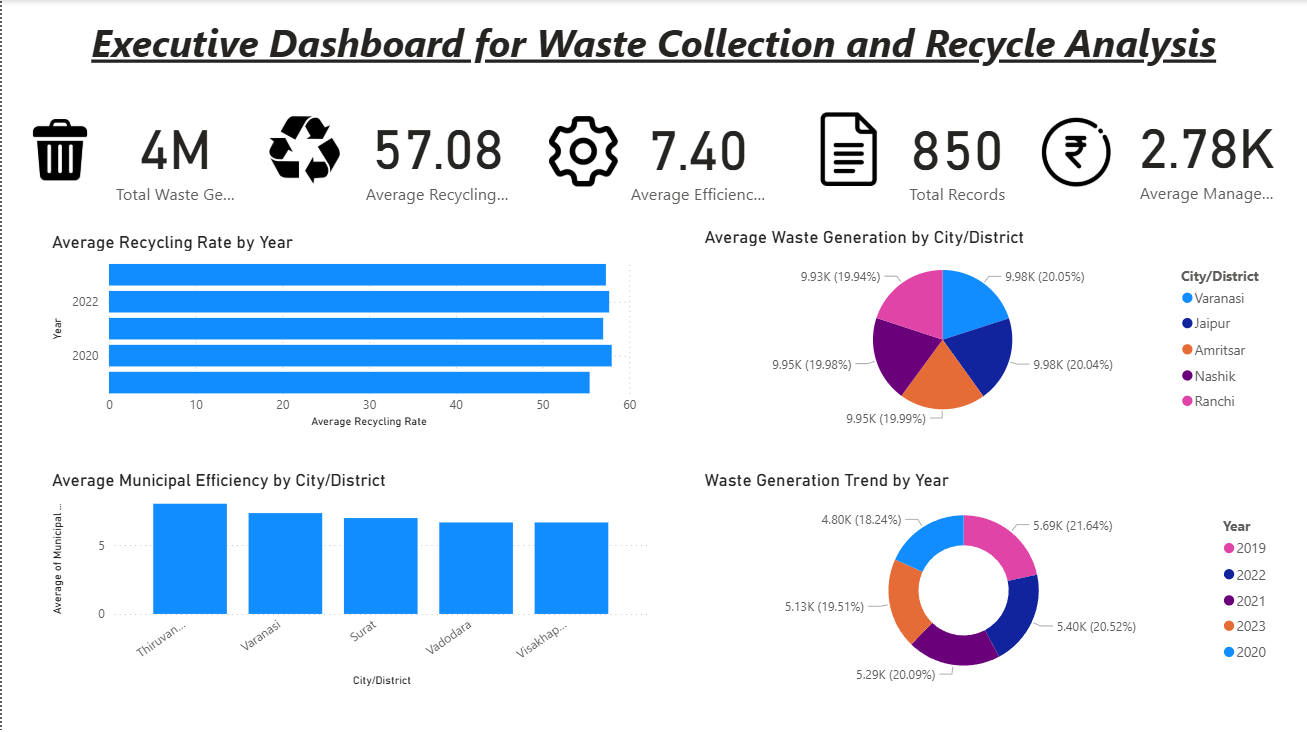

Layout of this report page (visuals, bound fields, positions):
{"tool":"powerbi","page":{"name":"Executive Dashboard","canvas":[1280,720],"ordinal":3},"visuals":[{"type":"textbox","box":[9.6,11,1255.6,61.7],"z":0},{"type":"card","fields":{"Values":["Waste_Management_and_Recycling_India.Total Waste Generated"]},"box":[102.9,96.1,134.5,108.4],"z":1000},{"type":"card","fields":{"Values":["Waste_Management_and_Recycling_India.Average Recycling Rate"]},"box":[349.9,81,152.3,140],"z":2000},{"type":"card","fields":{"Values":["Waste_Management_and_Recycling_India.Average Efficiency Score"]},"box":[607.9,89.2,146.8,123.5],"z":3000},{"type":"card","fields":{"Values":["Waste_Management_and_Recycling_India.Total Records"]},"box":[846.7,75.5,177,150.9],"z":4000},{"type":"card","fields":{"Values":["Waste_Management_and_Recycling_India.Average Management Cost"]},"box":[1106.7,84.4,144.3,130.8],"z":5000},{"type":"clusteredBarChart","title":"Average Recycling Rate by Year","fields":{"Category":["Waste_Management_and_Recycling_India.Year"],"Y":["Waste_Management_and_Recycling_India.Average Recycling Rate"]},"box":[43.9,226.4,581.8,197.6],"z":6000},{"type":"pieChart","title":"Average Waste Generation by City/District","fields":{"Category":["Waste_Management_and_Recycling_India.City/District"],"Y":["Avg(Waste_Management_and_Recycling_India.Waste Generated (Tons/Day))"]},"box":[682,220.9,568.1,203.1],"z":7000},{"type":"clusteredColumnChart","title":"Average Municipal Efficiency by City/District","fields":{"Category":["Waste_Management_and_Recycling_India.City/District"],"Y":["Avg(Waste_Management_and_Recycling_India.Municipal Efficiency Score (1-10))"]},"box":[43.9,459.7,594.2,216.8],"z":8000},{"type":"donutChart","title":"Waste Generation Trend by Year","fields":{"Category":["Waste_Management_and_Recycling_India.Year"],"Y":["Avg(Waste_Management_and_Recycling_India.Waste Generated (Tons/Day))"]},"box":[682,459.7,568.1,216.8],"z":9000},{"type":"image","box":[22,110.1,69.7,72.1],"z":10000},{"type":"image","box":[256.8,105.2,78.3,83.2],"z":11000},{"type":"image","box":[529.5,106.4,78.3,83.2],"z":12000},{"type":"image","box":[787.5,105.2,81.9,81.9],"z":12001},{"type":"image","box":[1012.5,108.8,77,80.7],"z":12002}]}

Visuals, with their boxes in screenshot pixels (x1, y1, x2, y2), scaled from the page's 1280x720 canvas onto the 1307x732 screenshot:
textbox: bbox=(10, 11, 1292, 74)
card - Waste_Management_and_Recycling_India.Total Waste Generated: bbox=(105, 98, 242, 208)
card - Waste_Management_and_Recycling_India.Average Recycling Rate: bbox=(357, 82, 513, 225)
card - Waste_Management_and_Recycling_India.Average Efficiency Score: bbox=(621, 91, 771, 216)
card - Waste_Management_and_Recycling_India.Total Records: bbox=(865, 77, 1045, 230)
card - Waste_Management_and_Recycling_India.Average Management Cost: bbox=(1130, 86, 1277, 219)
"Average Recycling Rate by Year" clusteredBarChart: bbox=(45, 230, 639, 431)
"Average Waste Generation by City/District" pieChart: bbox=(696, 225, 1276, 431)
"Average Municipal Efficiency by City/District" clusteredColumnChart: bbox=(45, 467, 652, 688)
"Waste Generation Trend by Year" donutChart: bbox=(696, 467, 1276, 688)
image: bbox=(22, 112, 94, 185)
image: bbox=(262, 107, 342, 192)
image: bbox=(541, 108, 621, 193)
image: bbox=(804, 107, 888, 190)
image: bbox=(1034, 111, 1112, 193)
